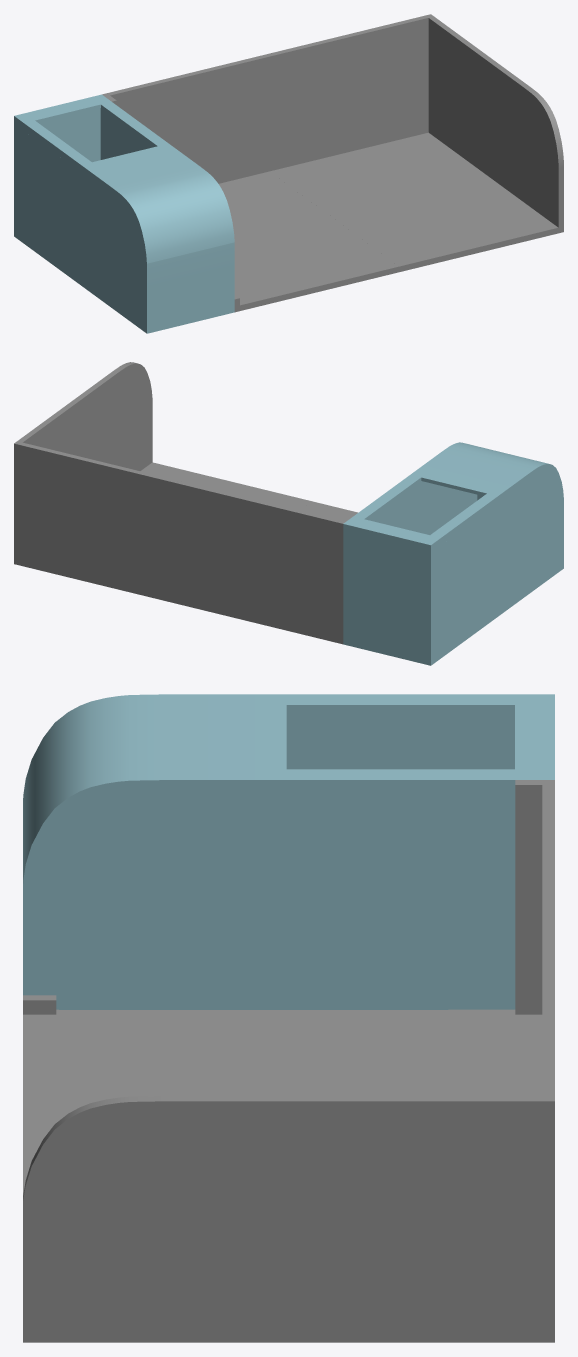
The model's file is artzen-product-unfinished.FBX.
3 views of the same model, one above another, from view 1: azimuth 30°, elevation 25°; view 2: azimuth 150°, elevation 25°; view 3: azimuth 270°, elevation 25° (orthographic). The views are drawn at different scales.
Visible parts, largest first — view 1: plat_wall_x, plat_l, ter_box, ter_tap; view 2: plat_wall_x, ter_box, plat_l, ter_tap; view 3: plat_wall_x, ter_box, plat_l, ter_tap.
Part boxes in pixels (bbox=[...]): plat_wall_x: bbox=[267, 14, 563, 271]; plat_l: bbox=[102, 53, 399, 312]; ter_box: bbox=[14, 108, 234, 333]; ter_tap: bbox=[14, 94, 234, 263]; plat_wall_x: bbox=[14, 362, 311, 602]; ter_box: bbox=[343, 473, 563, 665]; plat_l: bbox=[174, 481, 357, 644]; ter_tap: bbox=[343, 442, 563, 552]; plat_wall_x: bbox=[23, 940, 554, 1342]; ter_box: bbox=[23, 712, 515, 1009]; plat_l: bbox=[23, 780, 554, 1170]; ter_tap: bbox=[23, 694, 554, 881].
Bounding box in the file's own units: 380 × 105 × 210.
